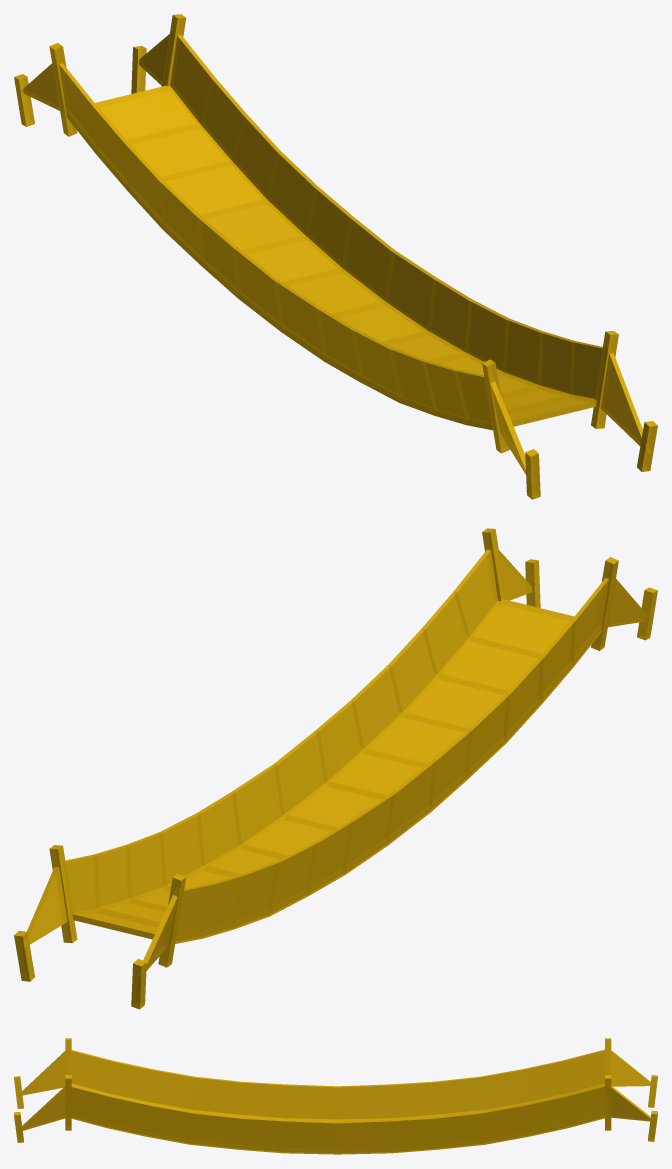
Rendered from SM_Bld_Ropebridge_02_Collision.fbx.
3 views of the same model, one above another, from view 1: azimuth 30°, elevation 25°; view 2: azimuth 150°, elevation 25°; view 3: azimuth 270°, elevation 25° (orthographic). The views are drawn at different scales.
Parts seen in each view (by area): view 1: SM_Bld_Ropebridge_02_Collision; view 2: SM_Bld_Ropebridge_02_Collision; view 3: SM_Bld_Ropebridge_02_Collision.
Boxes of the visible parts, x1,y1,x2,y2 form: SM_Bld_Ropebridge_02_Collision: (14, 14, 657, 499); SM_Bld_Ropebridge_02_Collision: (14, 528, 657, 1009); SM_Bld_Ropebridge_02_Collision: (14, 1038, 657, 1154).
Bounding box in the file's own units: 258 × 243 × 1753.
